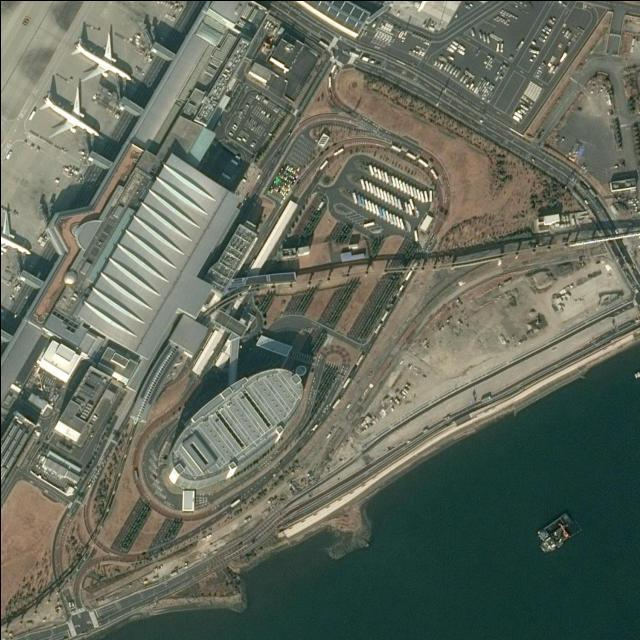Aircraft: (37, 85, 100, 142), (75, 27, 135, 84), (0, 208, 34, 260)
